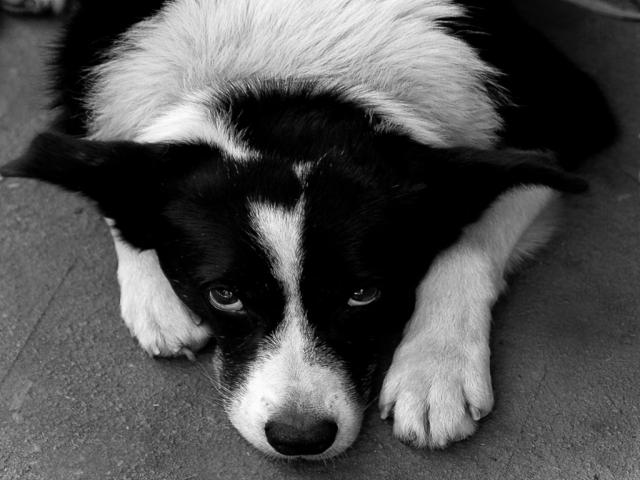Dog: (0, 0, 625, 470)
